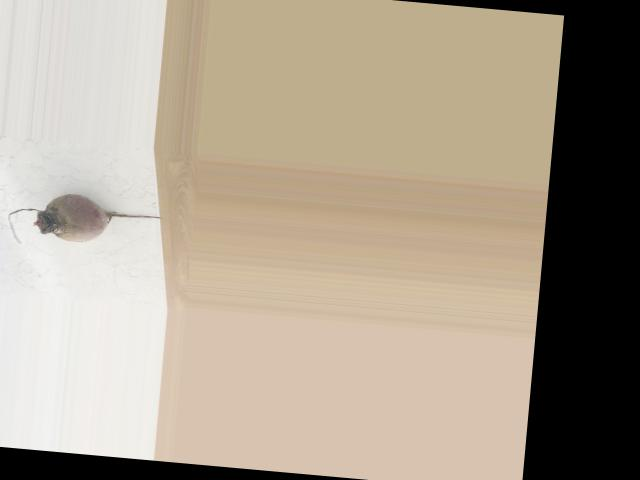beet: (7, 188, 165, 255)
